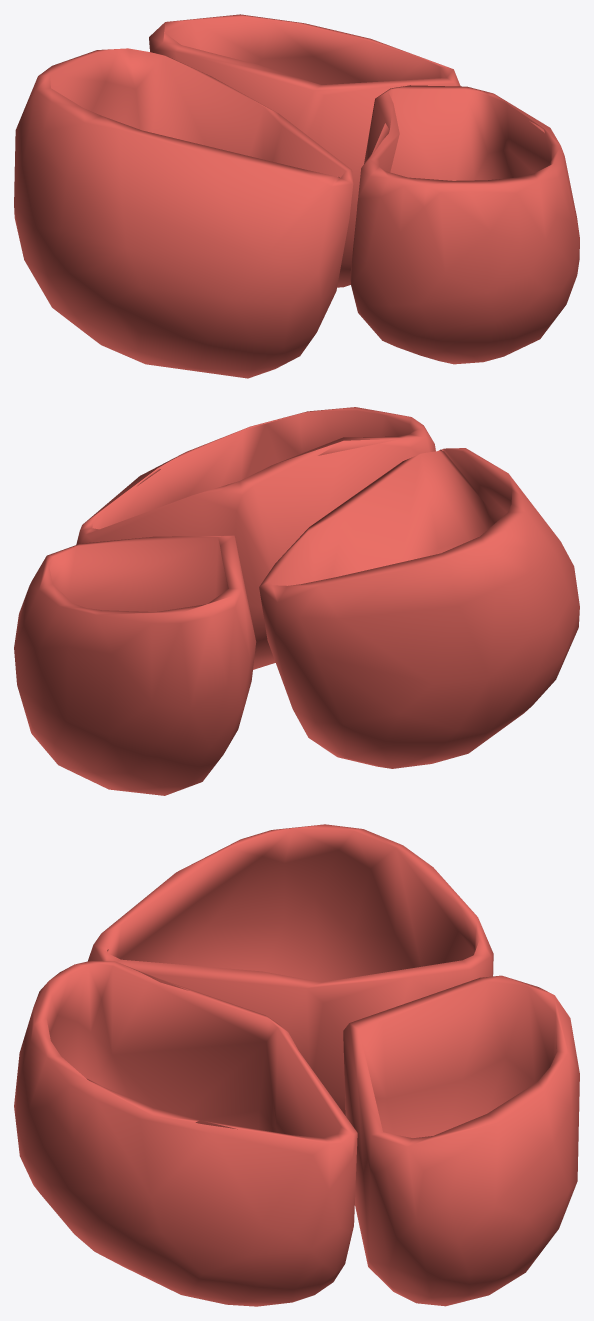
File: PulmonaryInsufficiency.gltf
The picture shows the model from 3 angles, top to bottom: view 1: azimuth 30°, elevation 25°; view 2: azimuth 150°, elevation 25°; view 3: azimuth 270°, elevation 25°; orthographic projection. The views are drawn at different scales.
Visible parts, largest first — view 1: Right semilunar leaflet of pulmonary valve.007; view 2: Right semilunar leaflet of pulmonary valve.007; view 3: Right semilunar leaflet of pulmonary valve.007.
Part boxes in pixels (x1,y1,x2,y2): Right semilunar leaflet of pulmonary valve.007: (14,14,579,378); Right semilunar leaflet of pulmonary valve.007: (14,407,579,795); Right semilunar leaflet of pulmonary valve.007: (14,824,579,1306).
Size of the model in its own units: 1.05 by 0.618 by 1.03.
